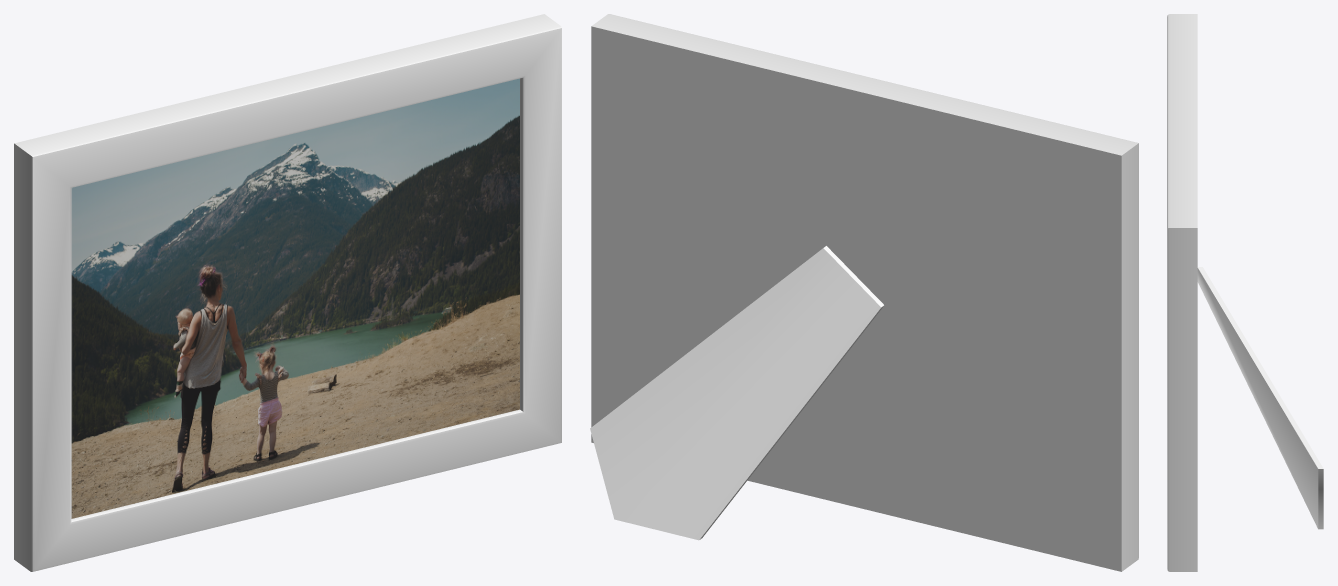
The model's file is Photo frame 2.fbx.
3 renders of one model, left to right at view 1: azimuth 30°, elevation 25°; view 2: azimuth 150°, elevation 25°; view 3: azimuth 270°, elevation 25°, orthographic. The views are drawn at different scales.
Visible parts, largest first — view 1: Photo frame 2; view 2: Photo frame 2; view 3: Photo frame 2.
Boxes of the visible parts, x1=… form: Photo frame 2: x1=14, y1=14, x2=561, y2=571; Photo frame 2: x1=590, y1=14, x2=1138, y2=571; Photo frame 2: x1=1167, y1=14, x2=1323, y2=571.
Bounding box in the file's own units: 200 × 150 × 61.84.
1 material, 1 textured.
